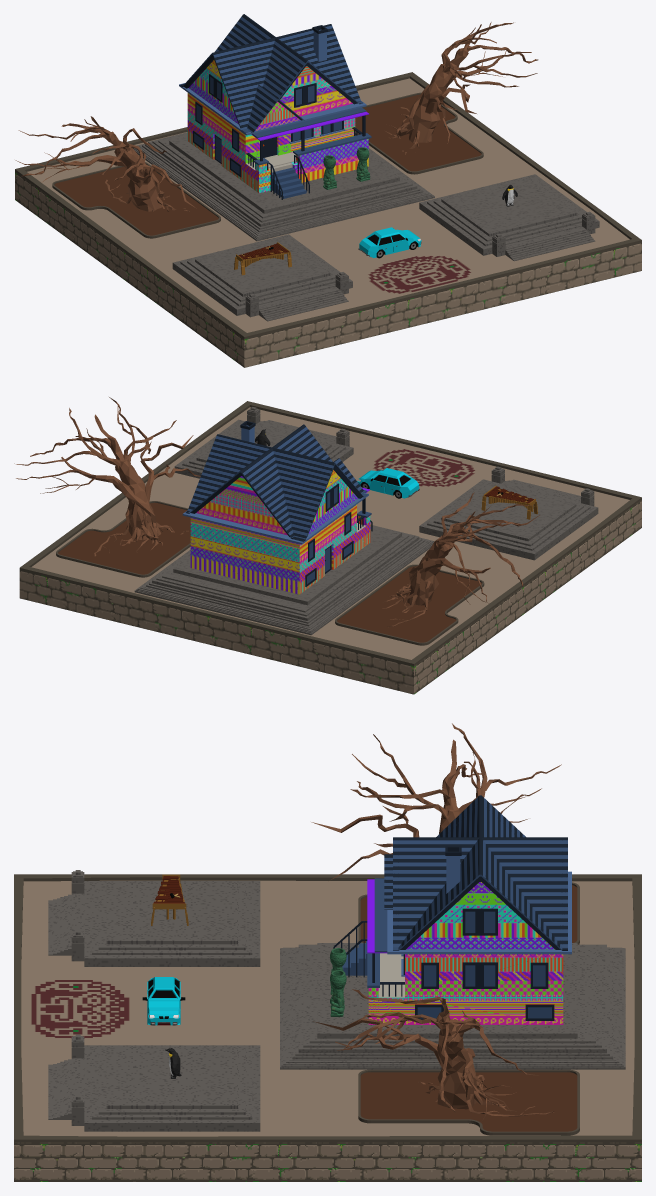
3 views of the same model, one above another, from view 1: azimuth 30°, elevation 25°; view 2: azimuth 150°, elevation 25°; view 3: azimuth 270°, elevation 25° (orthographic). The views are drawn at different scales.
Visible parts, largest first — view 1: Cube.011, Cube.676, VEHICLES_CAR, OBJRANDOM_MARIMBA; view 2: Cube.011, Cube.676, VEHICLES_CAR, OBJRANDOM_MARIMBA; view 3: Cube.011, Cube.676, VEHICLES_CAR, OBJRANDOM_MARIMBA.
Boxes of the visible parts, bbox=[...] form: Cube.011: bbox=[15, 22, 641, 367]; Cube.676: bbox=[179, 14, 371, 199]; VEHICLES_CAR: bbox=[358, 227, 421, 258]; OBJRANDOM_MARIMBA: bbox=[234, 242, 291, 275]; Cube.011: bbox=[14, 397, 641, 694]; Cube.676: bbox=[182, 421, 372, 594]; VEHICLES_CAR: bbox=[357, 468, 419, 498]; OBJRANDOM_MARIMBA: bbox=[481, 485, 537, 519]; Cube.011: bbox=[14, 723, 641, 1181]; Cube.676: bbox=[333, 795, 571, 1024]; VEHICLES_CAR: bbox=[142, 977, 185, 1025]; OBJRANDOM_MARIMBA: bbox=[151, 874, 188, 925].
Bounding box in the file's own units: 5099 × 1676 × 4000.
39 materials, 9 textured.
